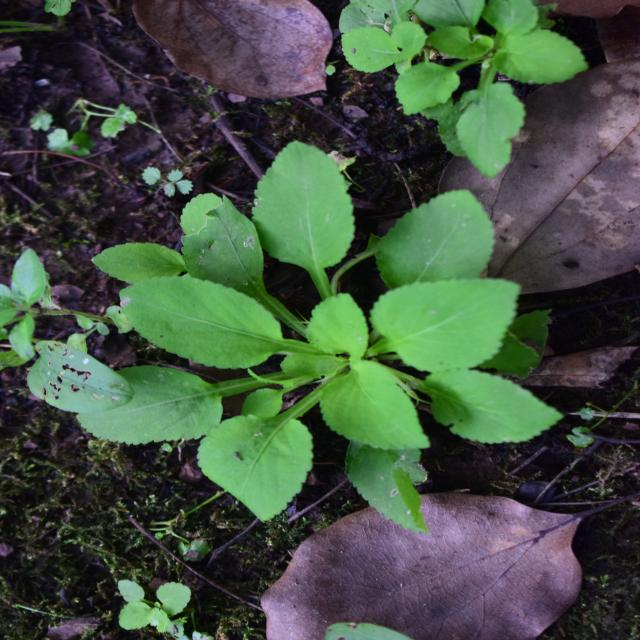Viola: (137, 114, 461, 534)
